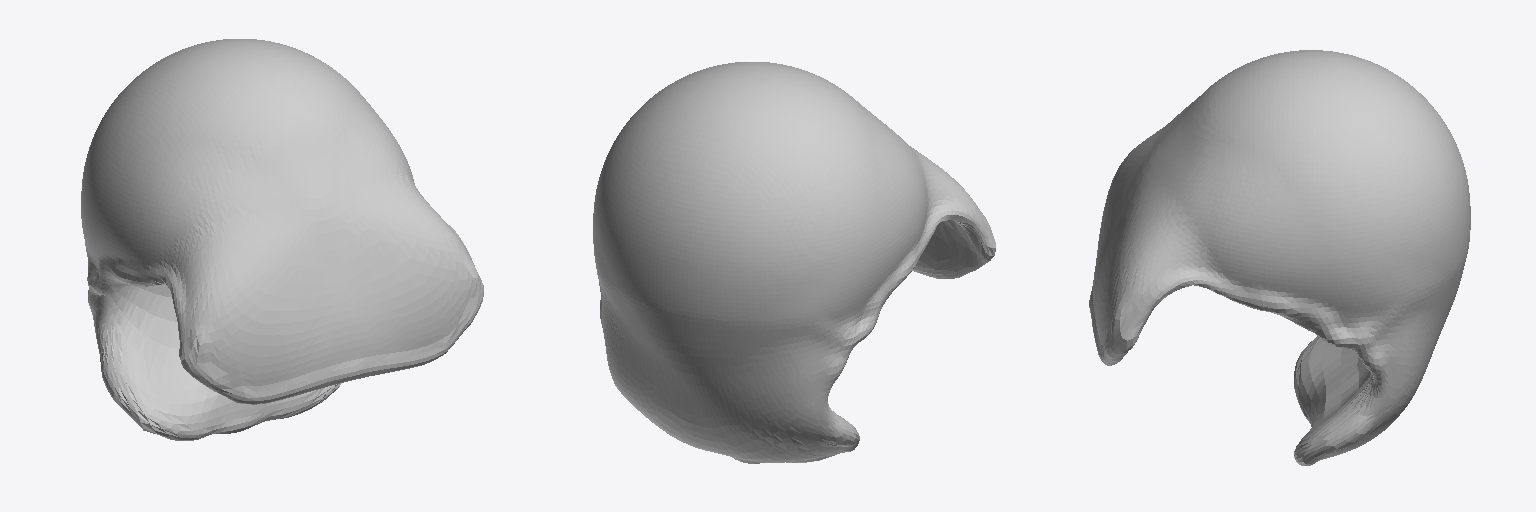
Rendered from fishrock0701.obj.
3 views of the same model, side by side, from view 1: azimuth 30°, elevation 25°; view 2: azimuth 150°, elevation 25°; view 3: azimuth 270°, elevation 25° (orthographic).
Visible parts, largest first — view 1: ZBrush_defualt_group; view 2: ZBrush_defualt_group; view 3: ZBrush_defualt_group.
Boxes of the visible parts, x1,y1,x2,y2 form: ZBrush_defualt_group: [81, 39, 483, 440]; ZBrush_defualt_group: [593, 62, 995, 463]; ZBrush_defualt_group: [1089, 50, 1470, 465].
Bounding box in the file's own units: 167 × 202 × 183.